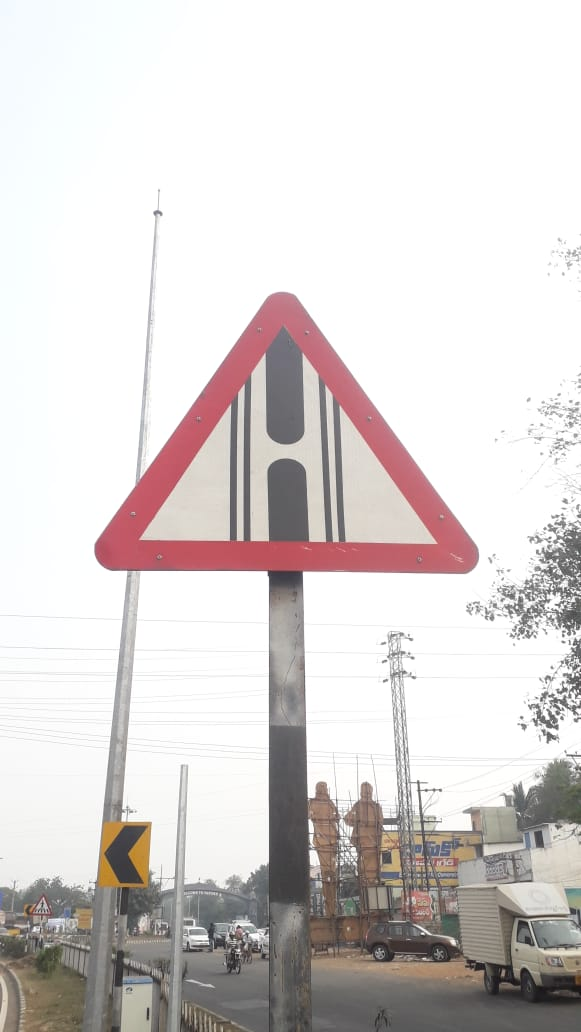highway go straight: (89, 269, 499, 606)
